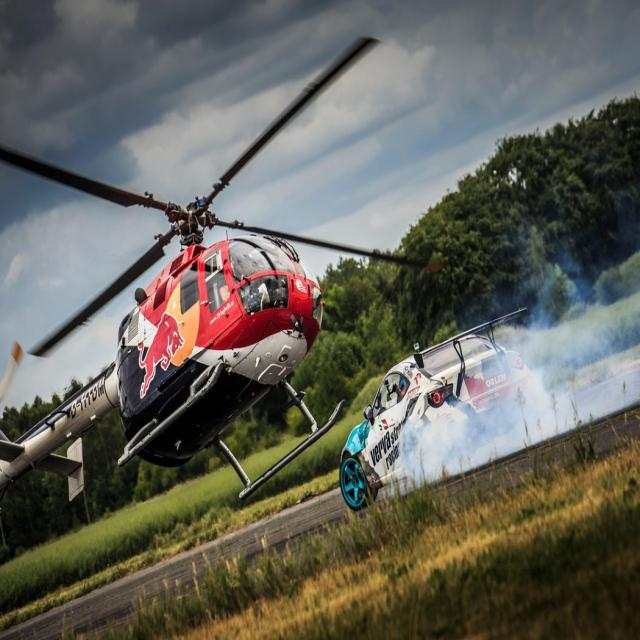helicopter: (37, 23, 400, 517)
